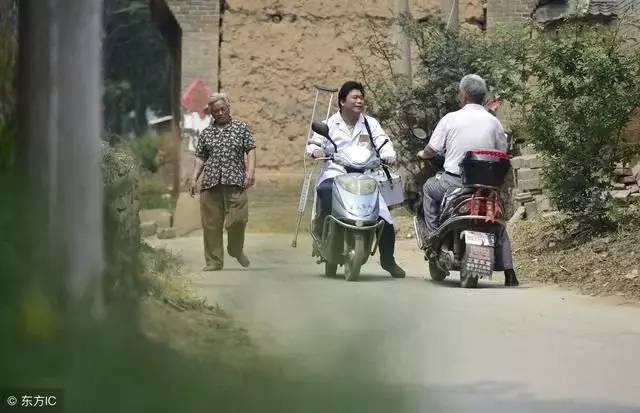non-vehicle: (413, 124, 515, 290), (309, 123, 393, 282)
